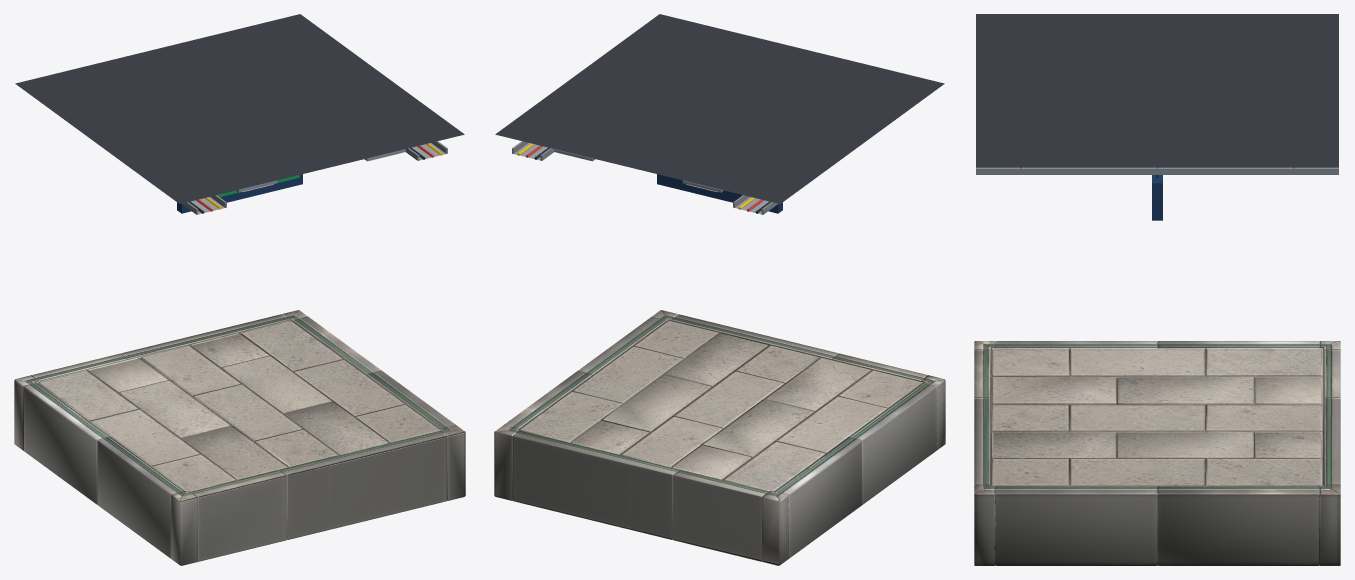
File: floor_b.fbx
3 views of the same model, side by side, from view 1: azimuth 30°, elevation 25°; view 2: azimuth 150°, elevation 25°; view 3: azimuth 270°, elevation 25° (orthographic). The views are drawn at different scales.
Visible parts, largest first — view 1: floor_b, Ceiling; view 2: floor_b, Ceiling; view 3: floor_b, Ceiling.
Part boxes in pixels (x1,y1,x2,y2): floor_b: [14, 310, 465, 565]; Ceiling: [15, 14, 464, 214]; floor_b: [494, 310, 945, 565]; Ceiling: [495, 14, 944, 214]; floor_b: [974, 341, 1340, 565]; Ceiling: [976, 14, 1338, 220].
Bounding box in the file's own units: 4 × 4.84 × 4.03.
